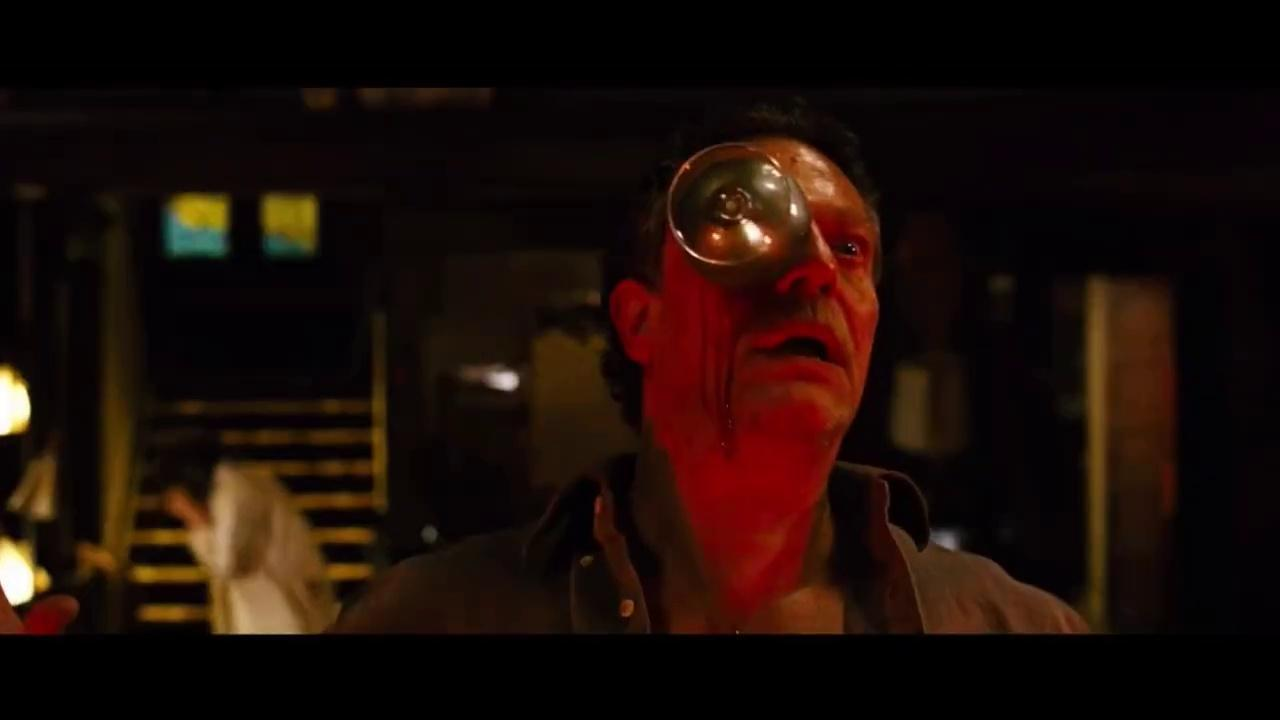Fire: (702, 259, 833, 461)
